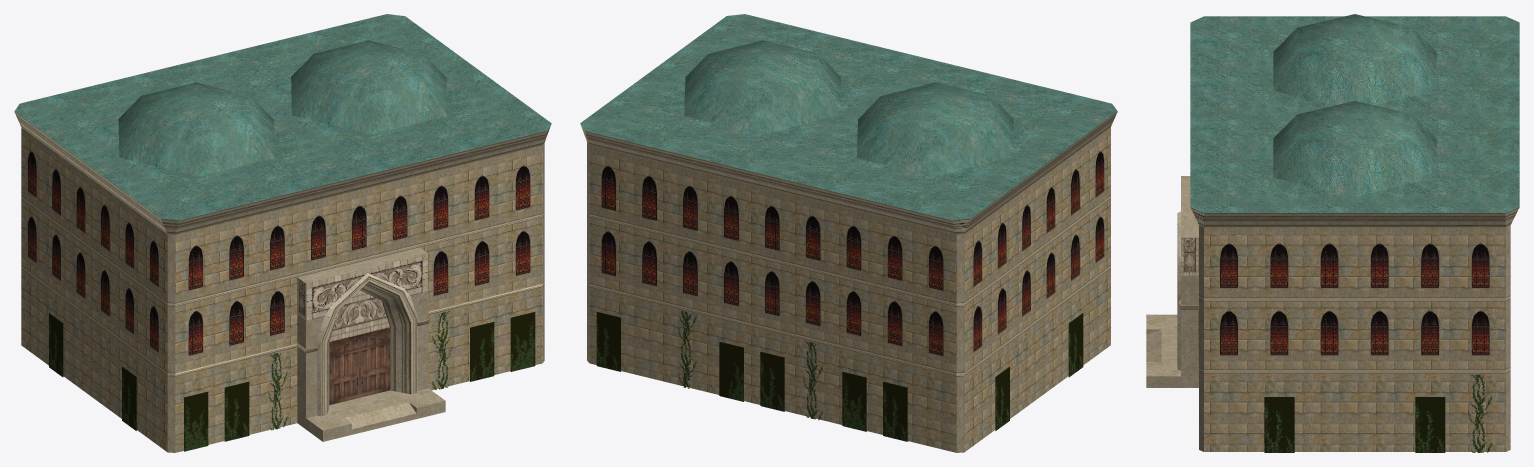
File: ply_nboo_house_m_s02_fp1_r0_mesh_l2.fbx
3 views of the same model, side by side, from view 1: azimuth 30°, elevation 25°; view 2: azimuth 150°, elevation 25°; view 3: azimuth 270°, elevation 25° (orthographic). The views are drawn at different scales.
Parts seen in each view (by area): view 1: mesh_node; view 2: mesh_node; view 3: mesh_node.
Boxes of the visible parts, bbox=[...] form: mesh_node: bbox=[14, 14, 551, 452]; mesh_node: bbox=[580, 14, 1117, 452]; mesh_node: bbox=[1146, 14, 1519, 452].
Size of the model in its own units: 18.12 by 12.24 by 14.55.
